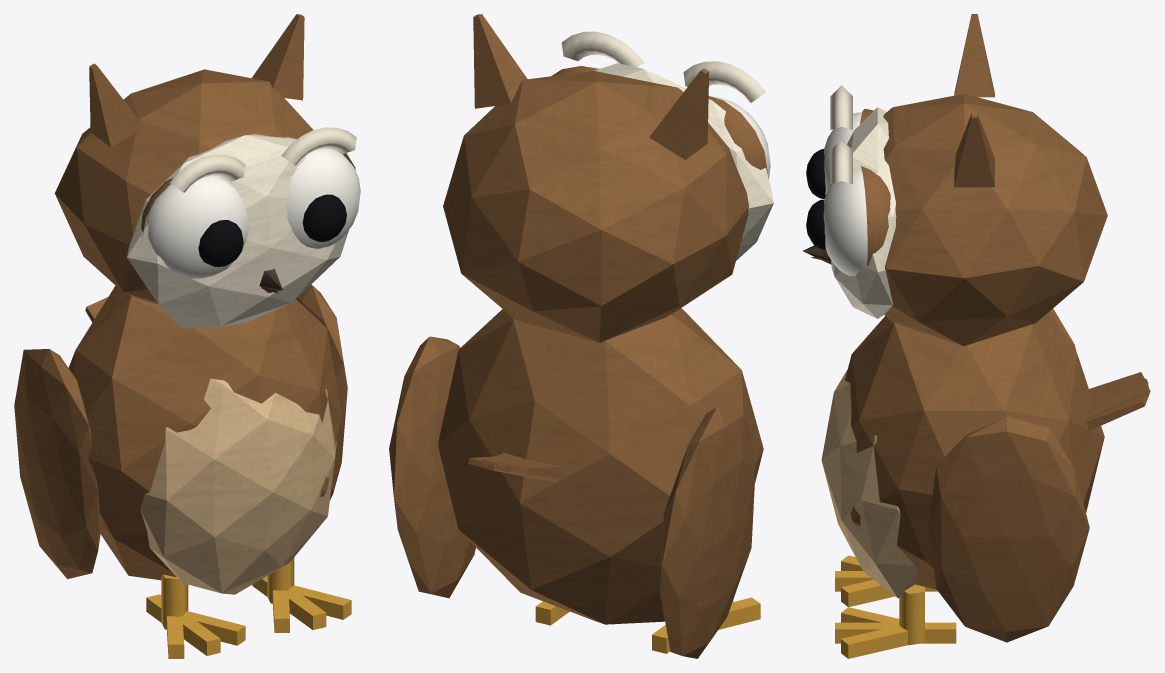
Rendered from owl.glb.
The picture shows the model from 3 angles, left to right: view 1: azimuth 30°, elevation 25°; view 2: azimuth 150°, elevation 25°; view 3: azimuth 270°, elevation 25°; orthographic projection. The views are drawn at different scales.
Parts seen in each view (by area): view 1: body, head, wingR, footR, footL, wingL, hipR, hipL; view 2: head, body, wingR, wingL, tail, footR; view 3: head, body, wingL, footL, tail, footR, hipL.
Part boxes in pixels (left/top/right/bottom): body: left=68, top=285, right=341, bottom=594; head: left=54, top=14, right=360, bottom=328; wingR: left=14, top=349, right=102, bottom=578; footR: left=146, top=594, right=245, bottom=658; footL: left=252, top=576, right=351, bottom=632; wingL: left=296, top=284, right=347, bottom=499; hipR: left=161, top=574, right=188, bottom=629; hipL: left=267, top=557, right=294, bottom=603; head: left=443, top=14, right=773, bottom=342; body: left=438, top=308, right=763, bottom=624; wingR: left=660, top=406, right=755, bottom=658; wingL: left=389, top=336, right=475, bottom=598; tail: left=468, top=452, right=562, bottom=482; footR: left=652, top=597, right=760, bottom=653; head: left=803, top=14, right=1107, bottom=345; body: left=821, top=311, right=1104, bottom=598; wingL: left=928, top=417, right=1089, bottom=642; footL: left=835, top=607, right=956, bottom=658; tail: left=1086, top=372, right=1150, bottom=430; footR: left=835, top=555, right=937, bottom=607; hipL: left=899, top=584, right=924, bottom=645.
Size of the model in its own units: 0.3204 by 0.5959 by 0.3416.
Materials: 14 (11 with a texture image).
